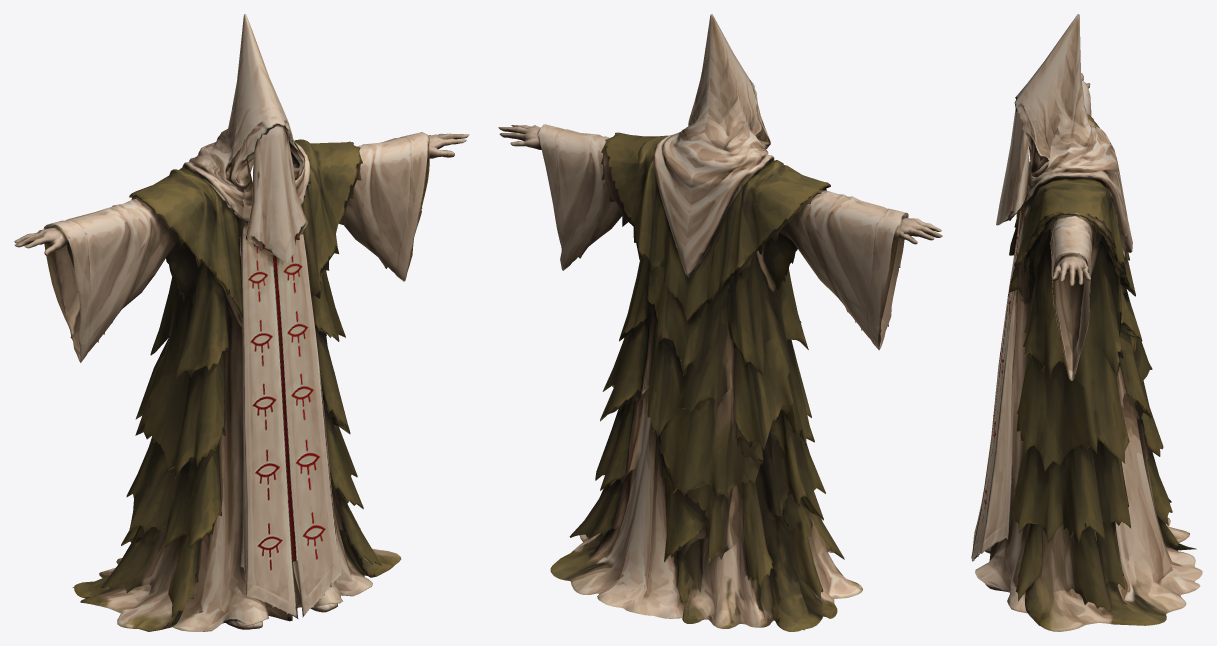
The model's file is P02_hush_herald.glb.
3 renders of one model, left to right at view 1: azimuth 30°, elevation 25°; view 2: azimuth 150°, elevation 25°; view 3: azimuth 270°, elevation 25°, orthographic. The views are drawn at different scales.
Parts seen in each view (by area): view 1: tripo_9bdcc20f_b9fa_4a22_a4ff_fc587aa342ae; view 2: tripo_9bdcc20f_b9fa_4a22_a4ff_fc587aa342ae; view 3: tripo_9bdcc20f_b9fa_4a22_a4ff_fc587aa342ae.
Part boxes in pixels (<box>): tripo_9bdcc20f_b9fa_4a22_a4ff_fc587aa342ae: <box>14,14,469,631</box>; tripo_9bdcc20f_b9fa_4a22_a4ff_fc587aa342ae: <box>498,14,942,631</box>; tripo_9bdcc20f_b9fa_4a22_a4ff_fc587aa342ae: <box>971,14,1202,631</box>.
Size of the model in its own units: 0.8306 by 0.9995 by 0.3774.
Materials: 1 (1 with a texture image).
